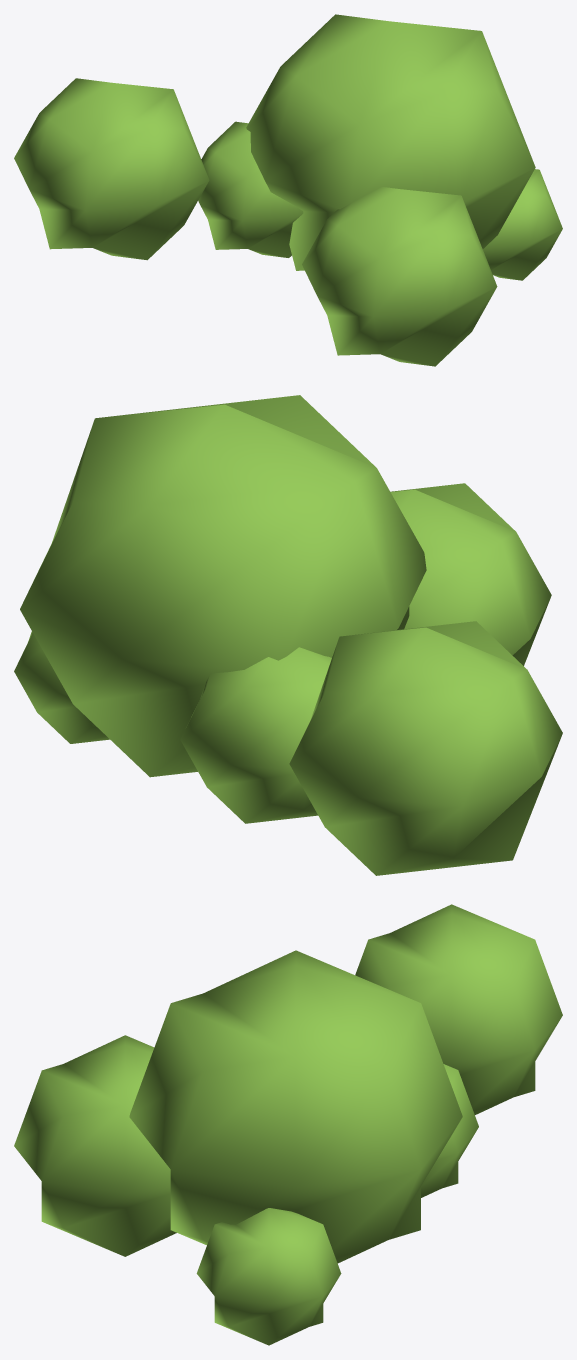
File: lowPolyFoliage.fbx
The picture shows the model from 3 angles, top to bottom: view 1: azimuth 30°, elevation 25°; view 2: azimuth 150°, elevation 25°; view 3: azimuth 270°, elevation 25°; orthographic projection. The views are drawn at different scales.
Parts seen in each view (by area): view 1: arvore_lowpoly:Box009, arvore_lowpoly:Box011, arvore_lowpoly:Box010, arvore_lowpoly:Box008, arvore_lowpoly:Box007; view 2: arvore_lowpoly:Box009, arvore_lowpoly:Box011, arvore_lowpoly:Box008, arvore_lowpoly:Box010, arvore_lowpoly:Box007; view 3: arvore_lowpoly:Box009, arvore_lowpoly:Box011, arvore_lowpoly:Box010, arvore_lowpoly:Box007, arvore_lowpoly:Box008.
Boxes of the visible parts, left/top/right/bottom form: arvore_lowpoly:Box009: left=246, top=14, right=535, bottom=270; arvore_lowpoly:Box011: left=14, top=78, right=209, bottom=260; arvore_lowpoly:Box010: left=302, top=187, right=497, bottom=366; arvore_lowpoly:Box008: left=198, top=121, right=303, bottom=257; arvore_lowpoly:Box007: left=483, top=169, right=562, bottom=280; arvore_lowpoly:Box009: left=20, top=395, right=426, bottom=777; arvore_lowpoly:Box011: left=289, top=621, right=562, bottom=875; arvore_lowpoly:Box008: left=180, top=647, right=331, bottom=823; arvore_lowpoly:Box010: left=390, top=483, right=551, bottom=665; arvore_lowpoly:Box007: left=14, top=631, right=109, bottom=743; arvore_lowpoly:Box009: left=129, top=950, right=462, bottom=1263; arvore_lowpoly:Box011: left=355, top=904, right=562, bottom=1114; arvore_lowpoly:Box010: left=14, top=1035, right=176, bottom=1256; arvore_lowpoly:Box007: left=196, top=1208, right=341, bottom=1345; arvore_lowpoly:Box008: left=421, top=1064, right=478, bottom=1197.
Size of the model in its own units: 5.39 by 3.15 by 4.93.
